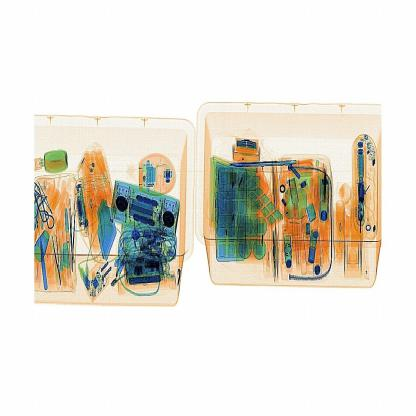pliers: (228, 155, 303, 168)
